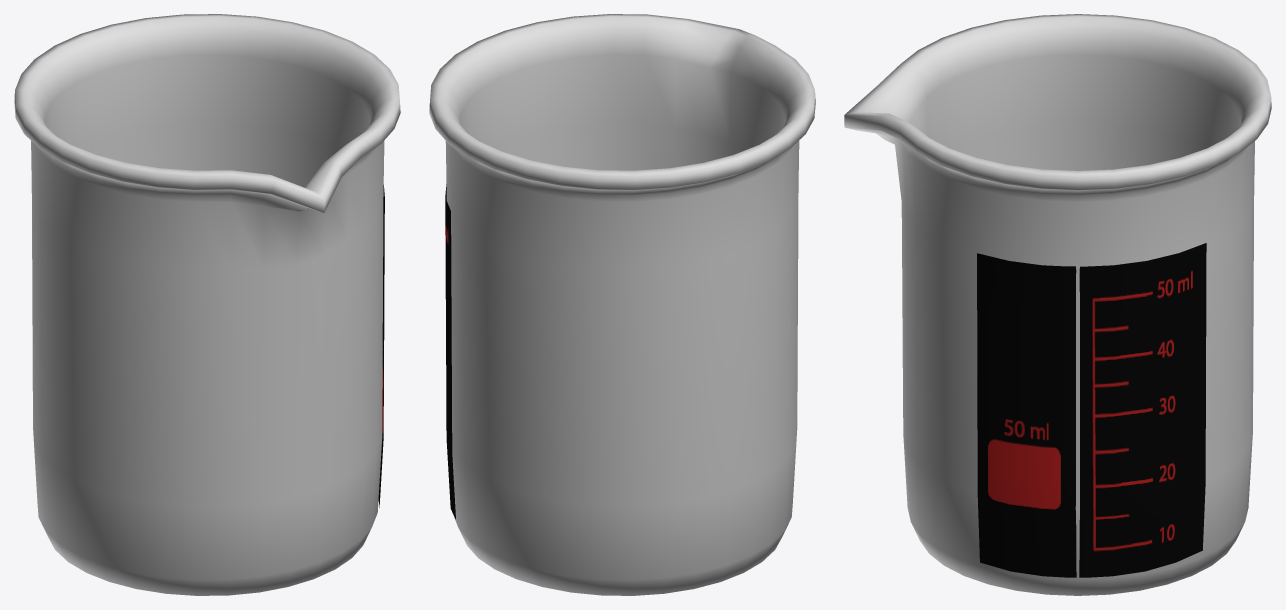
File: alat_gelasBeaker_50ml_annisa_01.fbx
The picture shows the model from 3 angles, left to right: view 1: azimuth 30°, elevation 25°; view 2: azimuth 150°, elevation 25°; view 3: azimuth 270°, elevation 25°; orthographic projection.
Visible parts, largest first — view 1: gelasBeaker_50ml; view 2: gelasBeaker_50ml; view 3: gelasBeaker_50ml.
Part boxes in pixels (x1=…): gelasBeaker_50ml: x1=14, y1=14, x2=400, y2=595; gelasBeaker_50ml: x1=429, y1=14, x2=815, y2=595; gelasBeaker_50ml: x1=844, y1=14, x2=1271, y2=595.
Bounding box in the file's own units: 7.15 × 9.24 × 7.9.
2 materials, 1 textured.
